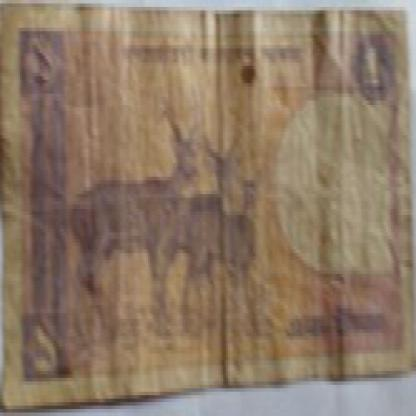One Taka: (283, 309, 391, 346), (22, 315, 70, 378), (23, 28, 60, 97)
